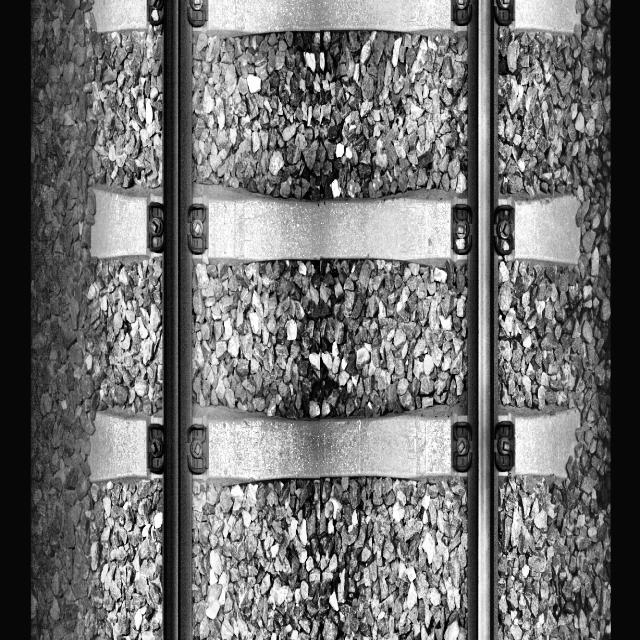Clips: (450, 420, 473, 472), (451, 202, 473, 256), (186, 422, 208, 473), (494, 419, 514, 474), (493, 204, 514, 256), (146, 200, 164, 256), (188, 203, 208, 253), (148, 422, 164, 475), (451, 0, 474, 28), (186, 0, 208, 27), (493, 0, 514, 26), (146, 0, 164, 22)
Sleepers: (90, 188, 579, 264), (89, 410, 582, 480), (85, 0, 577, 36)
